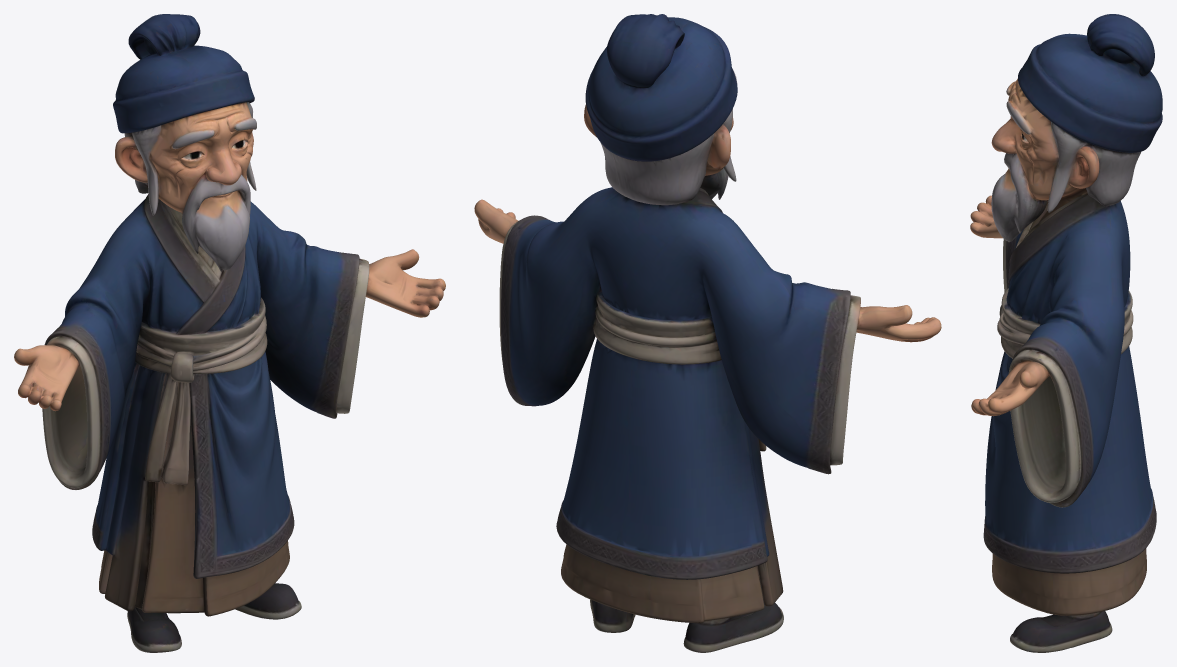
Rendered from duojiugong.glb.
3 views of the same model, side by side, from view 1: azimuth 30°, elevation 25°; view 2: azimuth 150°, elevation 25°; view 3: azimuth 270°, elevation 25° (orthographic). The views are drawn at different scales.
Visible parts, largest first — view 1: node_0; view 2: node_0; view 3: node_0.
Part boxes in pixels (x1,y1,x2,y2): node_0: (14,14,445,652); node_0: (474,14,941,652); node_0: (970,14,1162,652).
Bounding box in the file's own units: 0.8801 × 1.15 × 0.339.
1 material, 1 textured.
